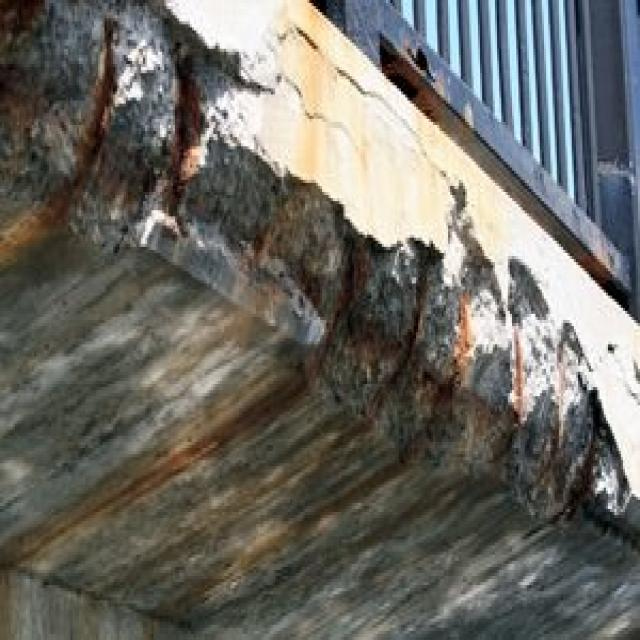Spalling: (8, 5, 640, 556)
